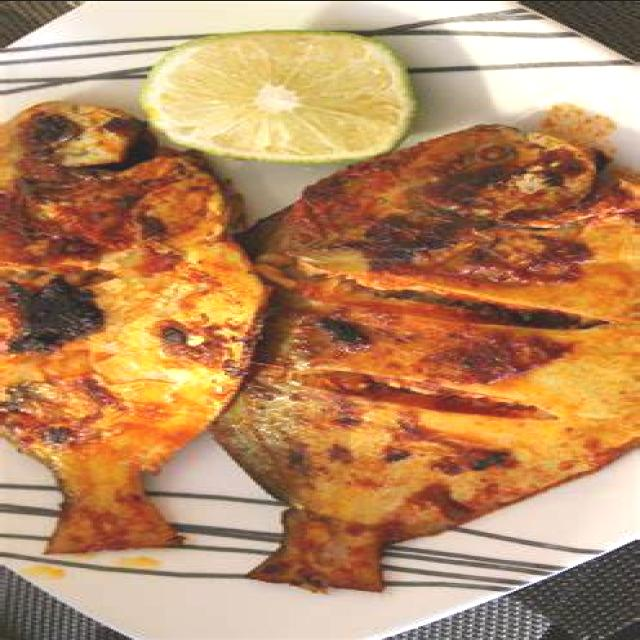ikan bakar: (212, 115, 640, 594), (0, 100, 245, 555)
